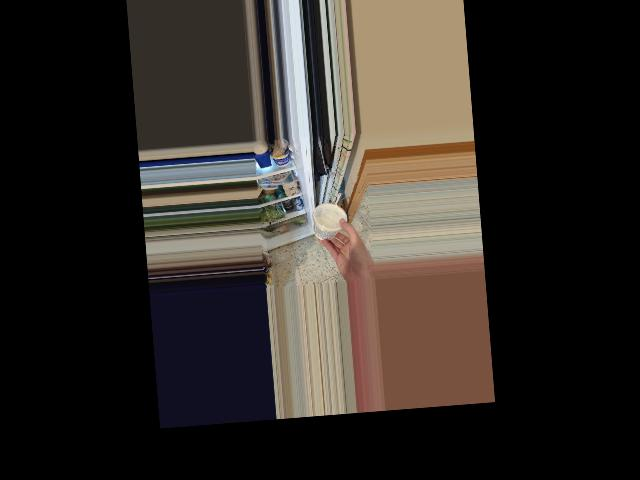cotage: (313, 202, 345, 238)
